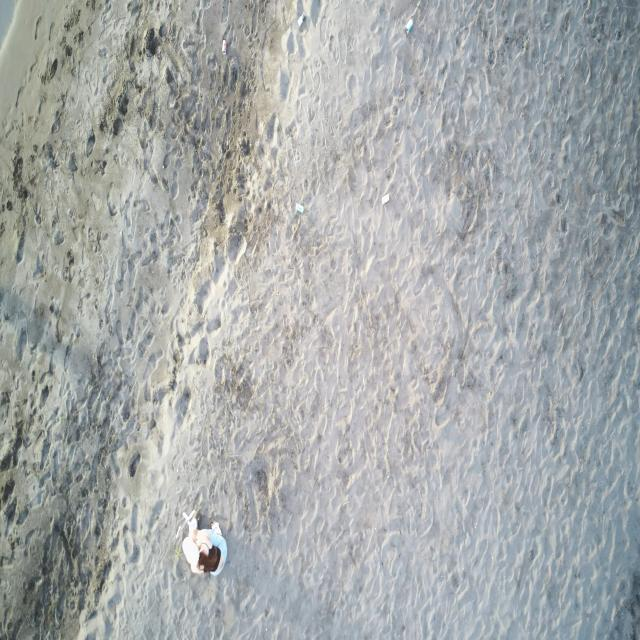tin-and-aluminum-cans: (297, 10, 307, 28), (221, 37, 229, 55), (405, 17, 413, 34), (381, 192, 390, 205), (295, 202, 304, 214)
